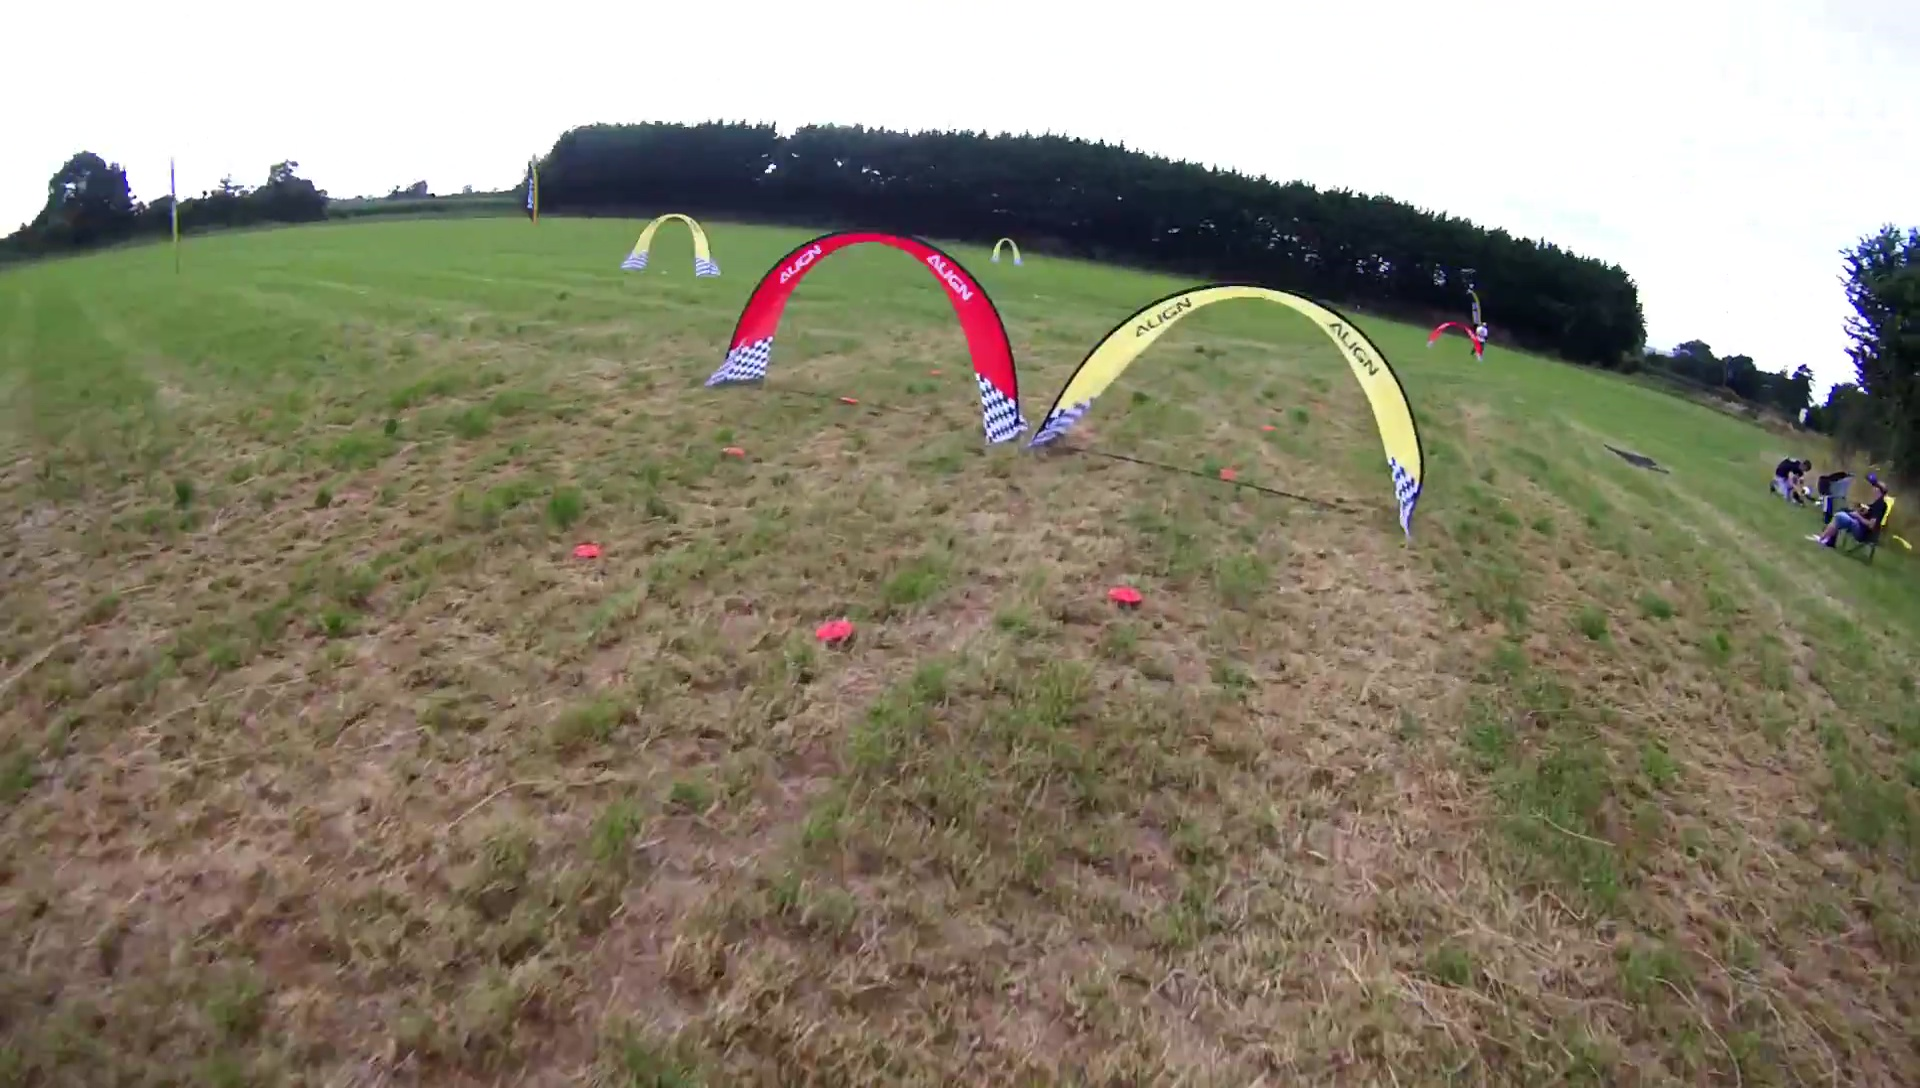gate: (1031, 280, 1429, 537), (705, 229, 1022, 443), (620, 212, 723, 280), (1425, 318, 1486, 361), (989, 235, 1026, 268)
